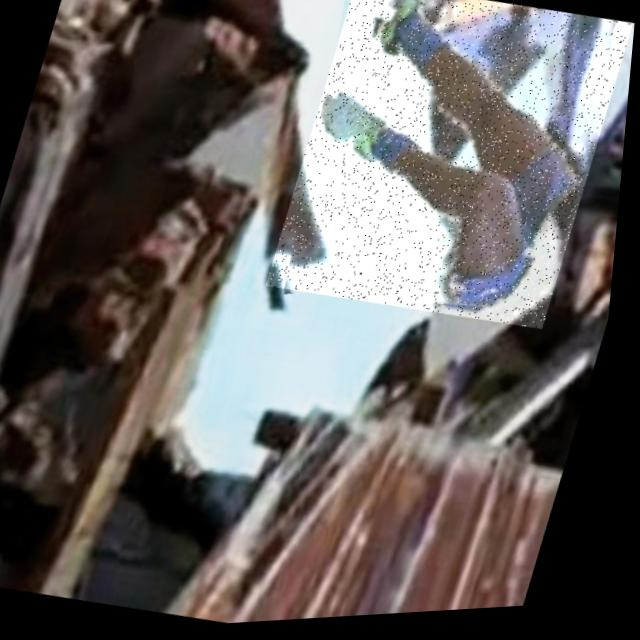Person in Rubble: (266, 0, 637, 349)
